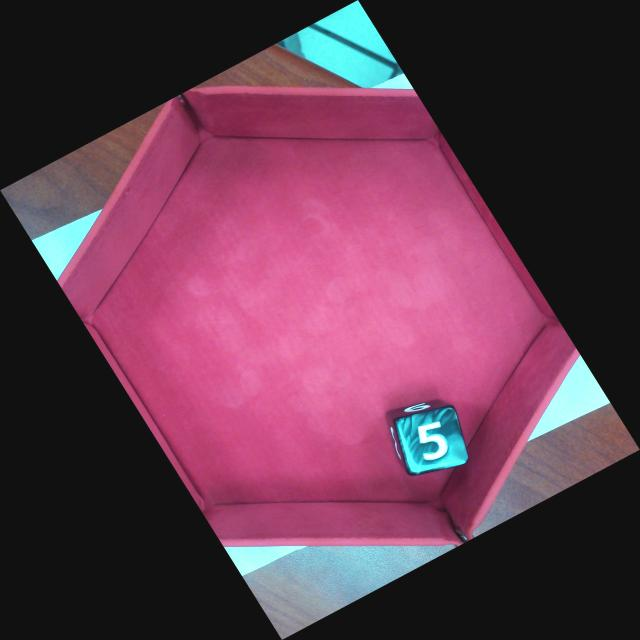dice: (392, 403, 474, 479)
